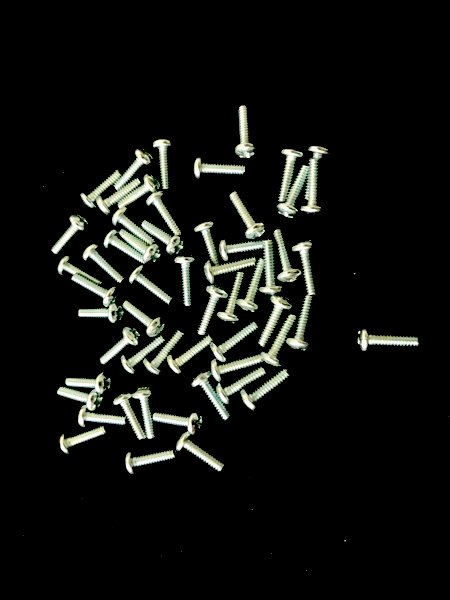shortscrew: (241, 369, 291, 412), (176, 431, 225, 473), (191, 371, 231, 421), (258, 295, 294, 349), (128, 264, 175, 305), (262, 314, 298, 367), (217, 367, 267, 405), (167, 335, 214, 375), (275, 164, 309, 219), (230, 191, 267, 241), (120, 335, 166, 375), (144, 330, 184, 376), (71, 273, 119, 309), (99, 326, 142, 366), (82, 244, 125, 284), (114, 148, 154, 191), (97, 178, 142, 216), (357, 326, 420, 353), (111, 209, 156, 246), (287, 295, 316, 352), (113, 392, 146, 442), (198, 284, 229, 337), (80, 170, 121, 210), (300, 158, 328, 216), (273, 229, 303, 283), (237, 258, 266, 313), (203, 256, 258, 285), (278, 146, 307, 201), (103, 229, 148, 264), (217, 272, 247, 324), (292, 239, 319, 296), (51, 215, 89, 255), (59, 425, 108, 456), (119, 229, 162, 264), (258, 239, 284, 295), (125, 450, 176, 476), (132, 387, 157, 440), (195, 219, 222, 265), (153, 411, 202, 436), (220, 237, 267, 263), (174, 254, 197, 307), (235, 106, 257, 159), (58, 387, 104, 412), (152, 140, 175, 190), (78, 406, 128, 428), (193, 160, 248, 180), (65, 373, 112, 395), (78, 304, 125, 324)
